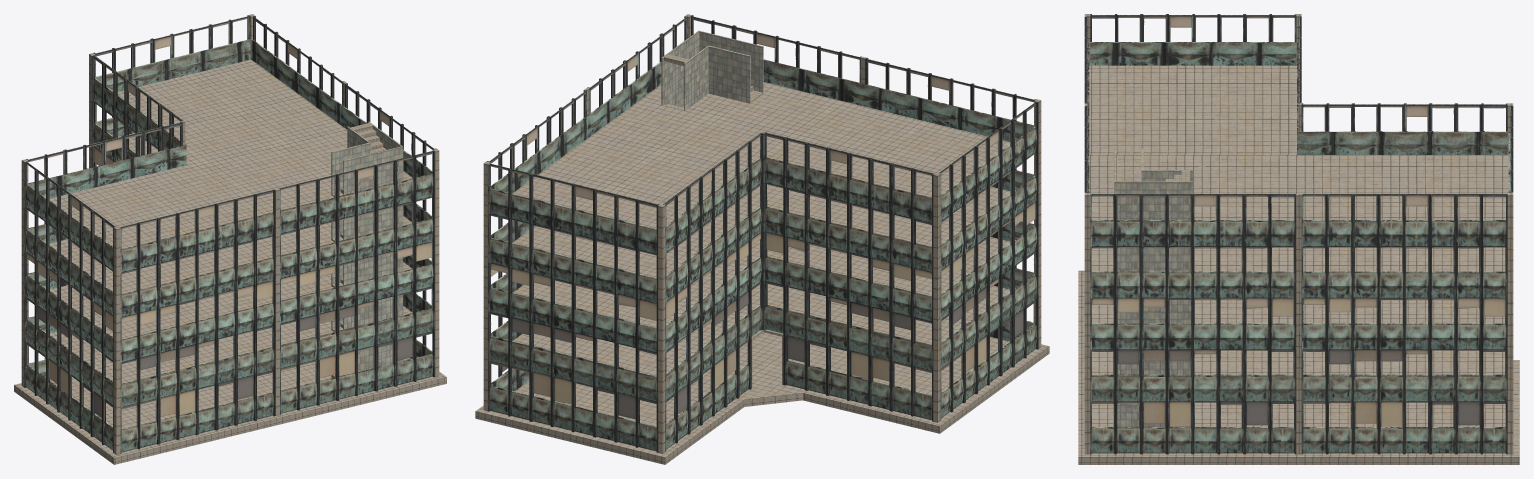
The model's file is BagSS09base_high.fbx.
3 views of the same model, side by side, from view 1: azimuth 30°, elevation 25°; view 2: azimuth 150°, elevation 25°; view 3: azimuth 270°, elevation 25° (orthographic). The views are drawn at different scales.
Visible parts, largest first — view 1: baseMain700, baseCrete700, baseInnerWall700, baseStairWell700, baseStairs700; view 2: baseMain700, baseCrete700, baseInnerWall700, baseStairWell700; view 3: baseMain700, baseCrete700, baseInnerWall700, baseStairWell700.
Part boxes in pixels (x1=…): baseMain700: x1=24, y1=15, x2=436, y2=453; baseCrete700: x1=14, y1=14, x2=446, y2=464; baseInnerWall700: x1=27, y1=39, x2=432, y2=430; baseStairWell700: x1=331, y1=121, x2=403, y2=377; baseStairs700: x1=332, y1=123, x2=386, y2=377; baseMain700: x1=486, y1=15, x2=1038, y2=452; baseCrete700: x1=475, y1=14, x2=1049, y2=464; baseInnerWall700: x1=490, y1=59, x2=1035, y2=427; baseStairWell700: x1=661, y1=30, x2=763, y2=110; baseMain700: x1=1084, y1=14, x2=1513, y2=454; baseCrete700: x1=1078, y1=14, x2=1519, y2=464; baseInnerWall700: x1=1087, y1=42, x2=1510, y2=428; baseStairWell700: x1=1114, y1=149, x2=1192, y2=427.
Bounding box in the file's own units: 42.12 × 28.13 × 42.12.
